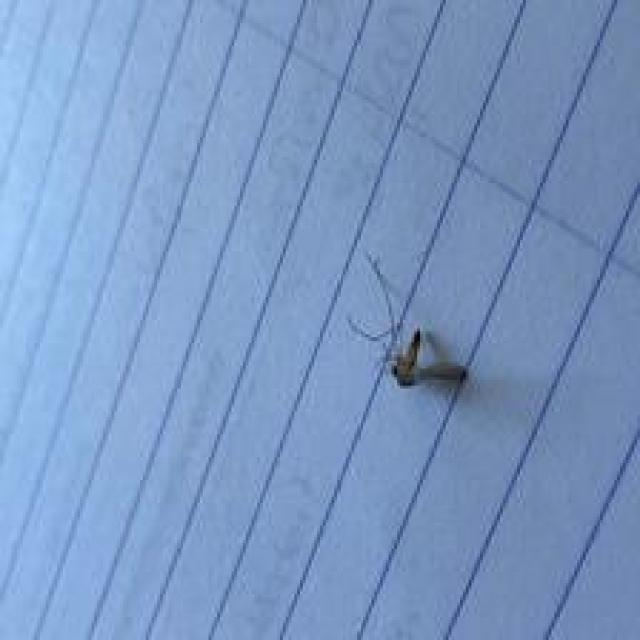Culex: (346, 248, 468, 388)
